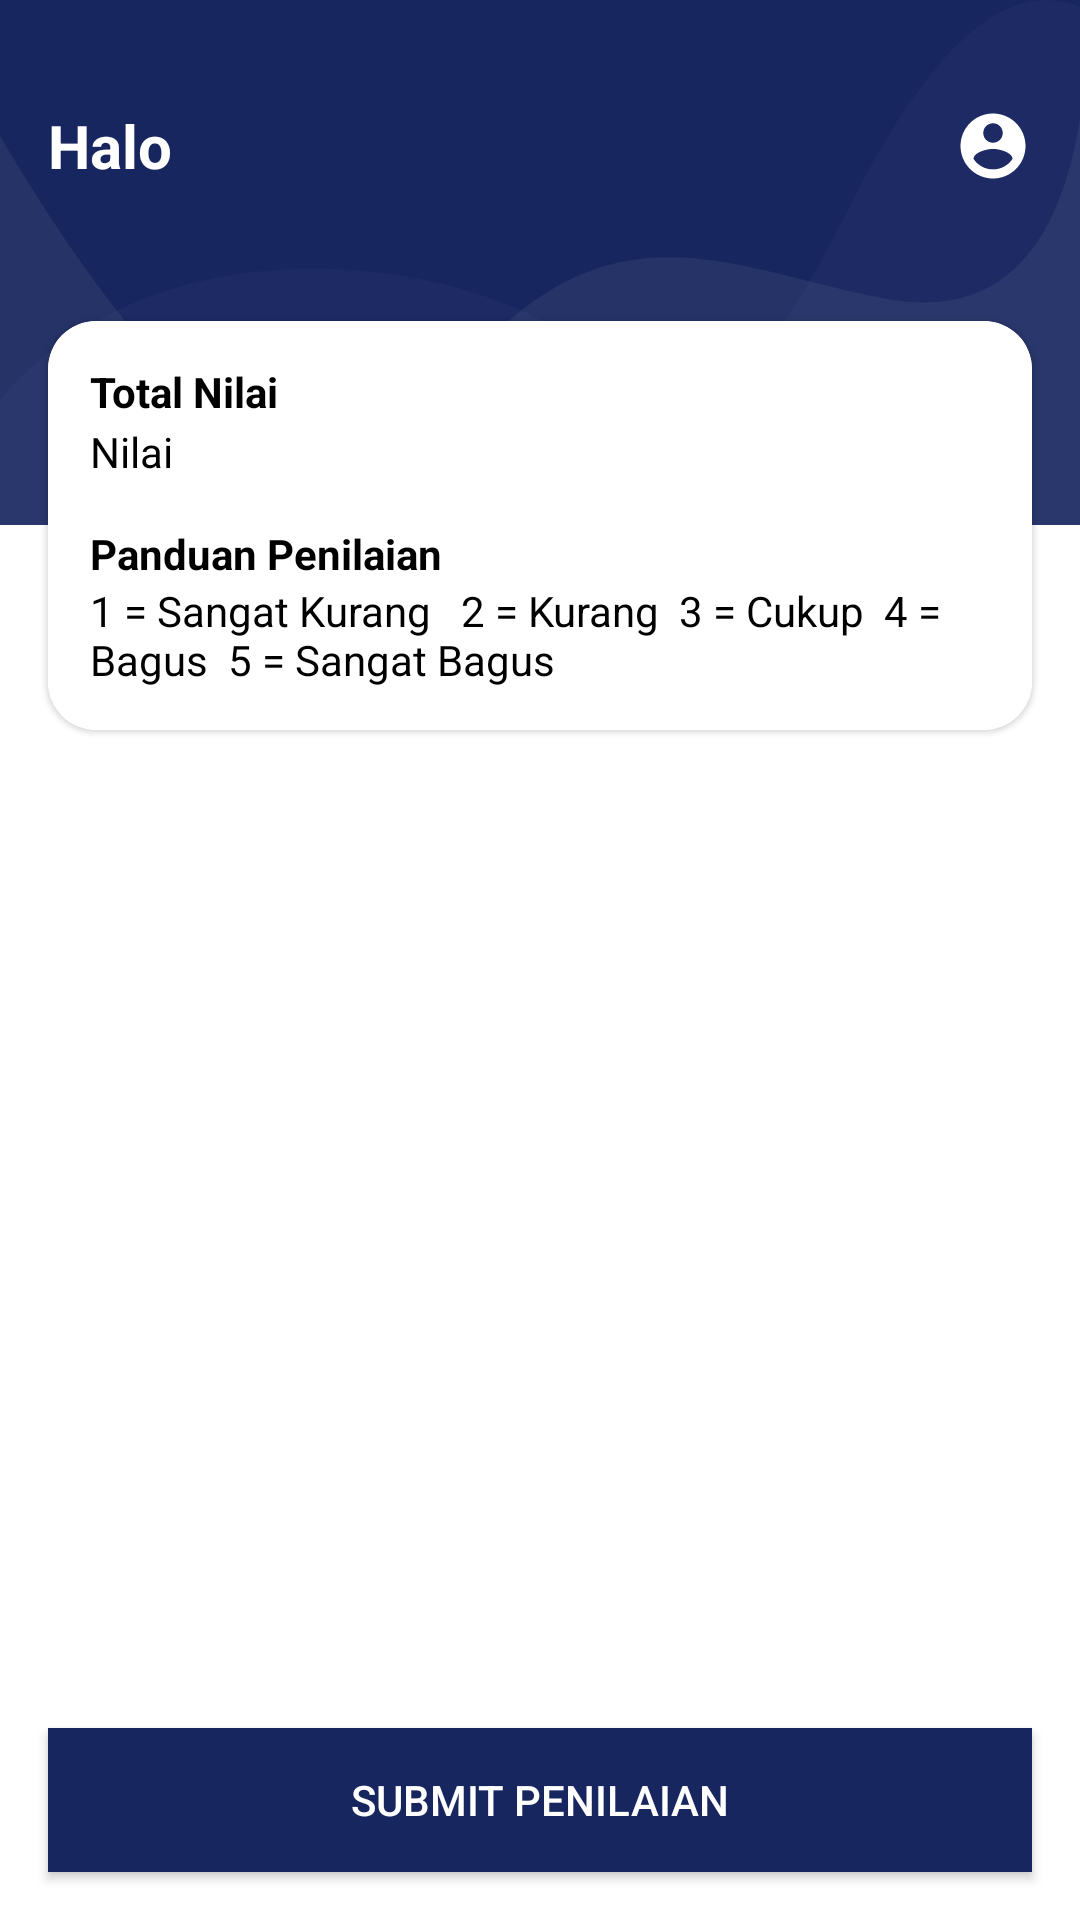

Where icons sit on this 1080w x 1920h app screen, as (x1, y1, x2, y2):
profile: (960, 113, 1026, 179)
